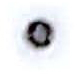cancer: (11, 6, 72, 65)
